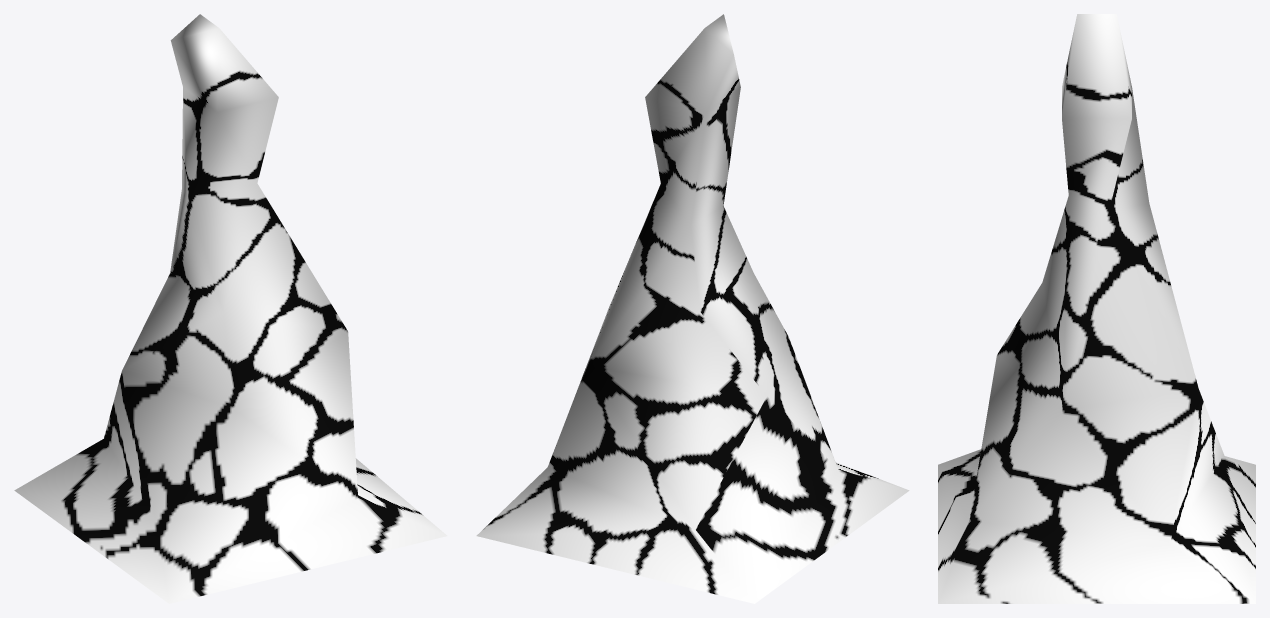
File: Stone_04_04.fbx
3 views of the same model, side by side, from view 1: azimuth 30°, elevation 25°; view 2: azimuth 150°, elevation 25°; view 3: azimuth 270°, elevation 25° (orthographic). The views are drawn at different scales.
Visible parts, largest first — view 1: Stone_04_04; view 2: Stone_04_04; view 3: Stone_04_04.
Boxes of the visible parts, <box> form: Stone_04_04: <box>14,14,447,603</box>; Stone_04_04: <box>476,14,909,603</box>; Stone_04_04: <box>938,14,1255,603</box>.
Bounding box in the file's own units: 6.77 × 11.56 × 6.53.
